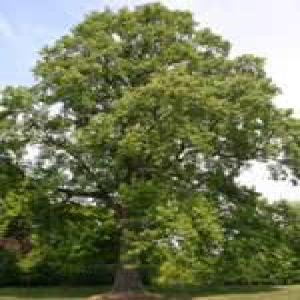Tree: (22, 3, 292, 295)
